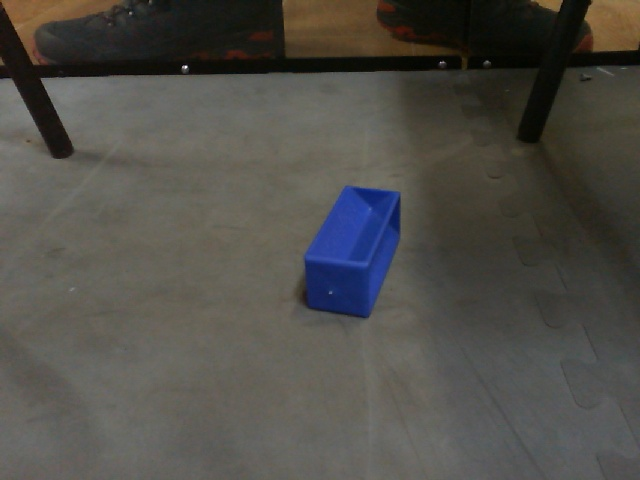BlueSample: (300, 185, 405, 323)
